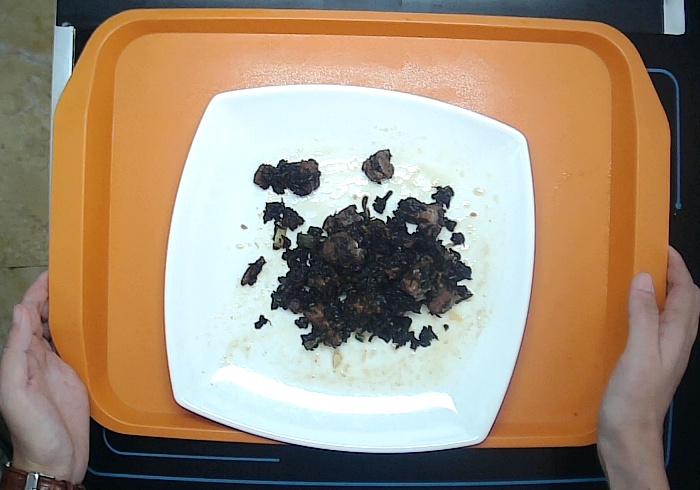ZNLD-Bai_Fang_Pan: (164, 63, 536, 453)
